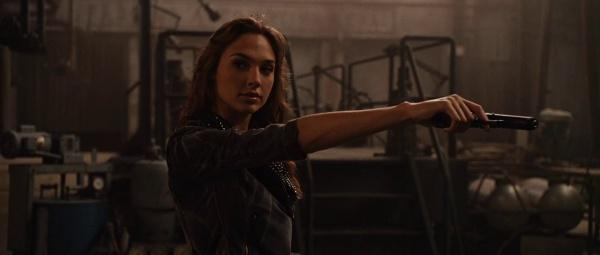Gun: (431, 110, 539, 131)
